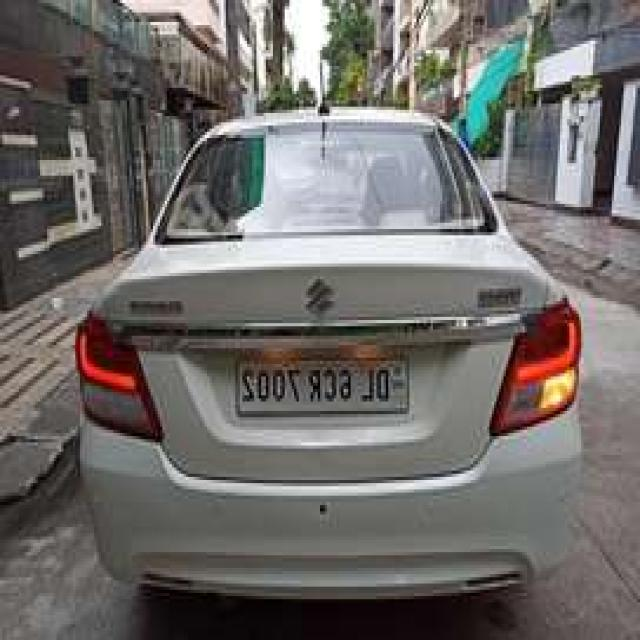license_plate: (234, 351, 412, 420)
